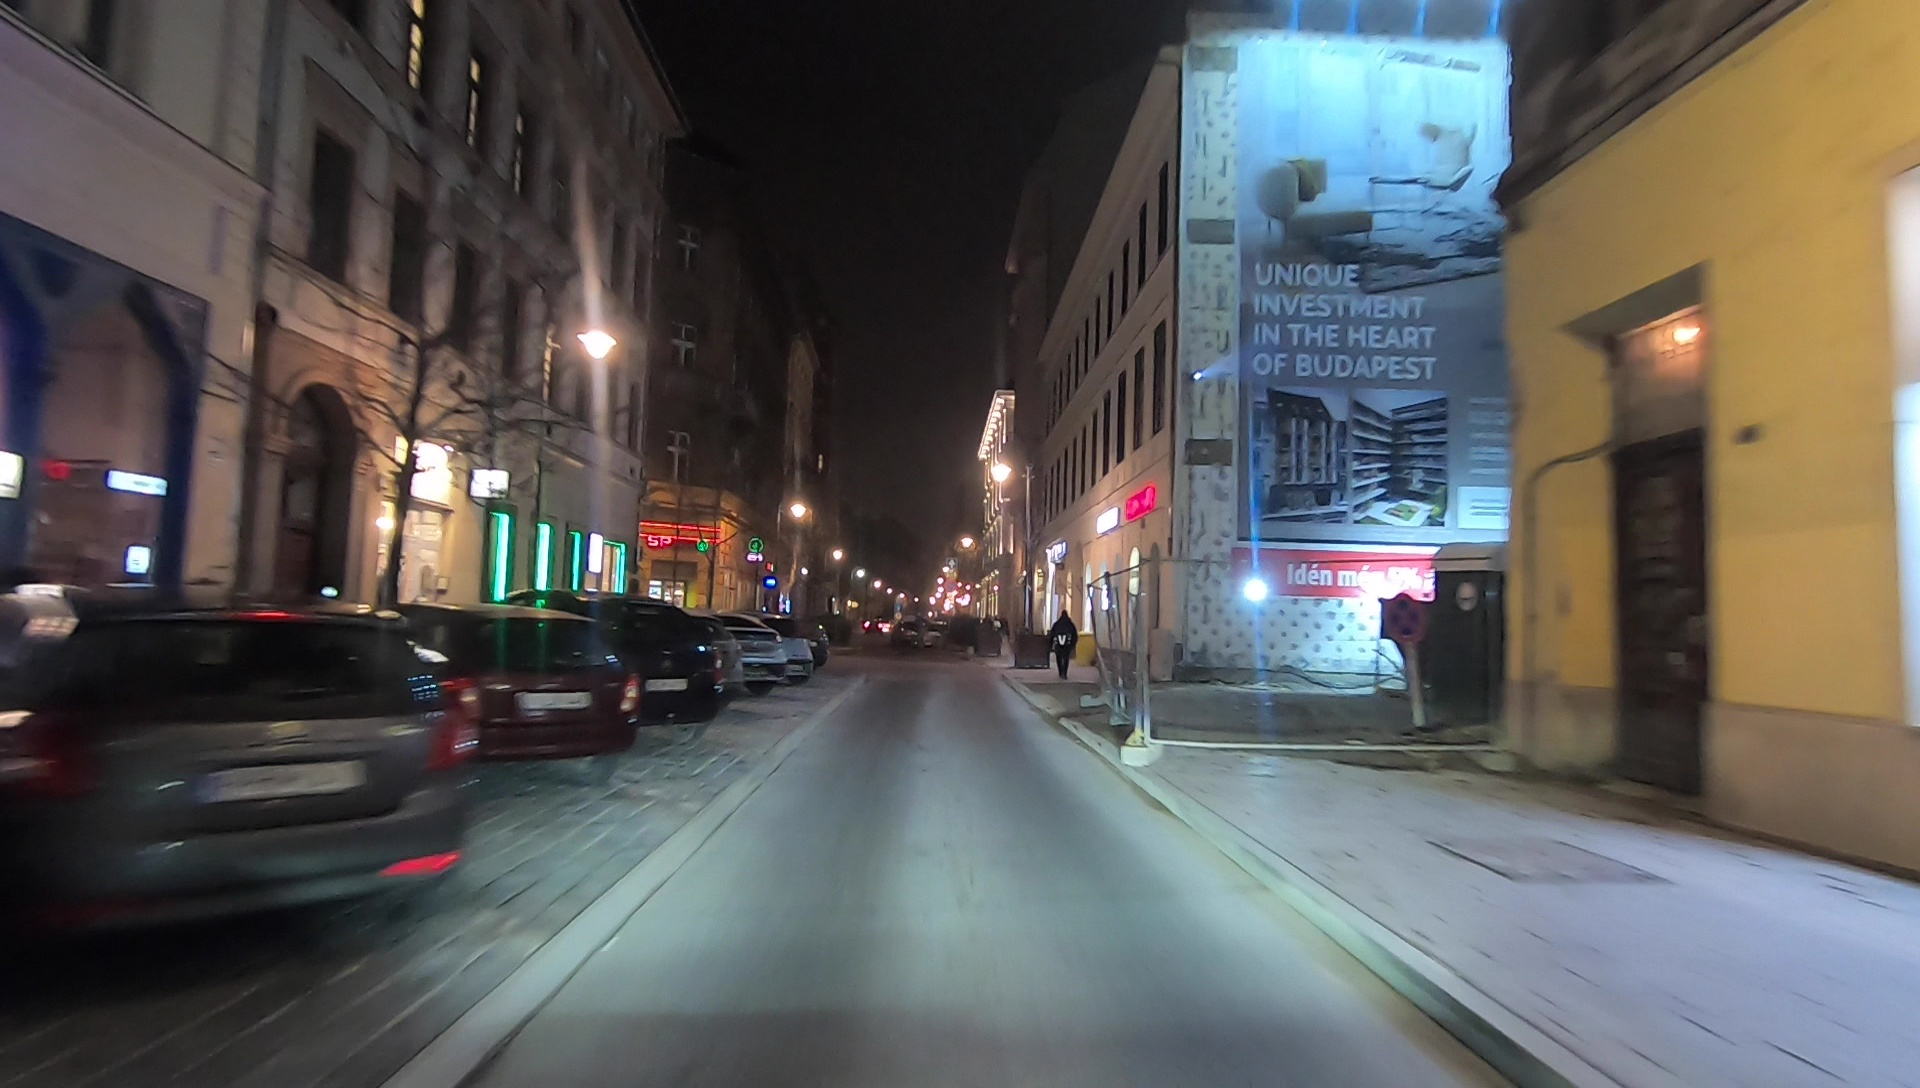person: (1052, 608, 1078, 684)
